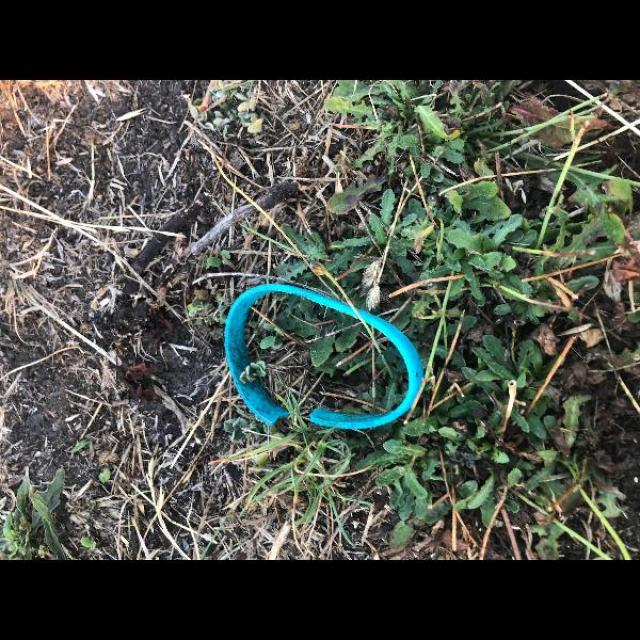plastic_waste: (170, 262, 456, 456)
